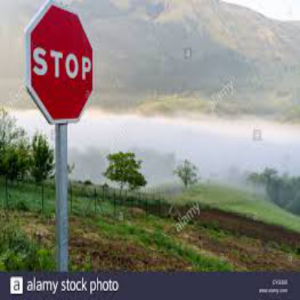STOP_SIGN: (25, 1, 94, 125)
